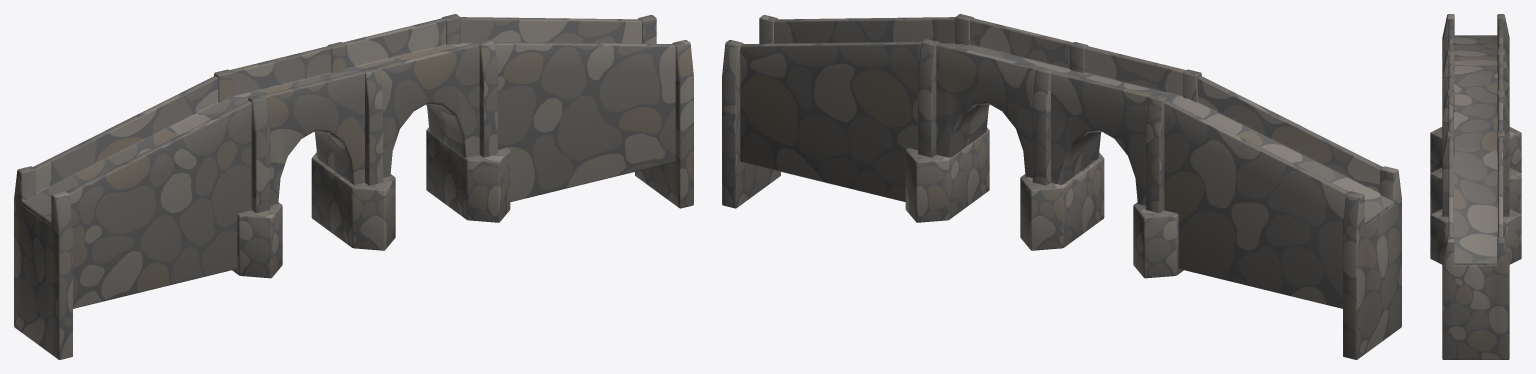
File: puente.fbx
3 renders of one model, left to right at view 1: azimuth 30°, elevation 25°; view 2: azimuth 150°, elevation 25°; view 3: azimuth 270°, elevation 25°, orthographic. The views are drawn at different scales.
Parts seen in each view (by area): view 1: Cube; view 2: Cube; view 3: Cube.
Boxes of the visible parts, x1,y1,x2,y2 form: Cube: [14, 14, 693, 359]; Cube: [722, 14, 1401, 359]; Cube: [1430, 14, 1521, 359].
Size of the model in its own units: 2908 by 916 by 491.
